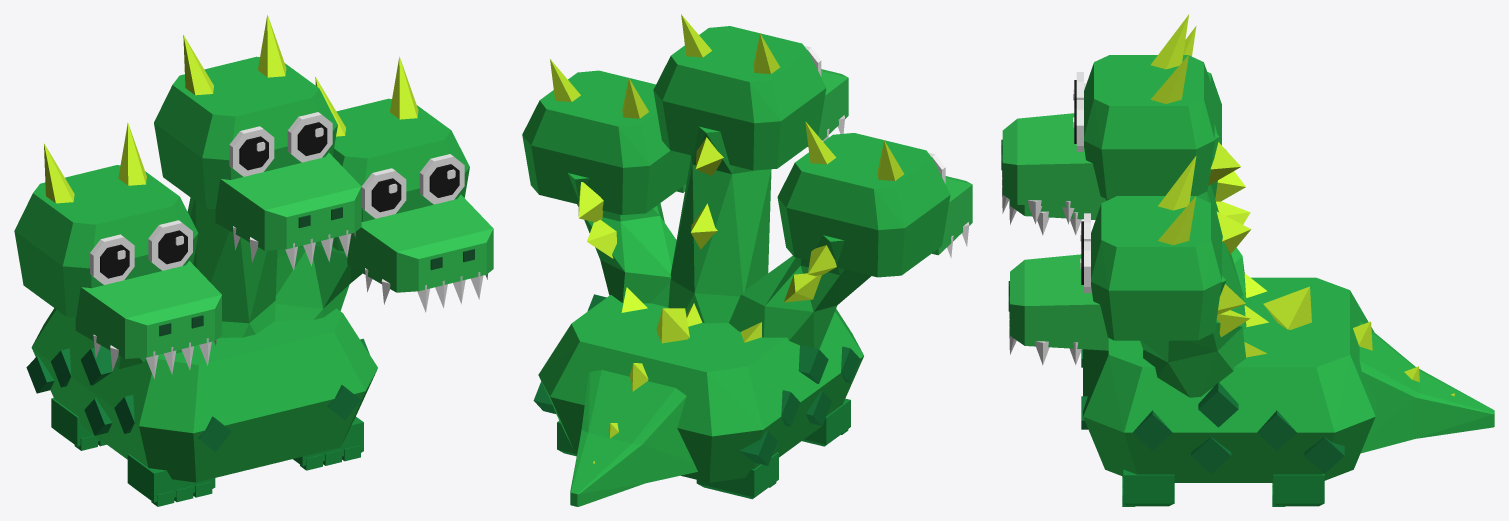
Rendered from Hydra.fbx.
The picture shows the model from 3 angles, left to right: view 1: azimuth 30°, elevation 25°; view 2: azimuth 150°, elevation 25°; view 3: azimuth 270°, elevation 25°; orthographic projection. The views are drawn at different scales.
Parts seen in each view (by area): view 1: Hydra_Heads, Hydra, Hydra_Snouts, Hydra_Necks, Hydra_Eyes, Hydra_Glow, Hydra_Feet, Hydra_Pupils, Hydra_Patches, Hydra_Teeth, Hydra_Nostrils; view 2: Hydra_Heads, Hydra, Hydra_Necks, Hydra_Tail, Hydra_Glow, Hydra_Patches, Hydra_Snouts, Hydra_Feet; view 3: Hydra, Hydra_Heads, Hydra_Snouts, Hydra_Glow, Hydra_Tail, Hydra_Necks, Hydra_Patches, Hydra_Feet, Hydra_Teeth, Hydra_Eyes.
Boxes of the visible parts, x1,y1,x2,y2 form: Hydra_Heads: (14, 56, 469, 317); Hydra: (31, 308, 377, 482); Hydra_Snouts: (75, 152, 493, 358); Hydra_Necks: (110, 197, 362, 369); Hydra_Eyes: (90, 112, 464, 284); Hydra_Glow: (44, 14, 418, 203); Hydra_Feet: (51, 398, 363, 506); Hydra_Pupils: (100, 122, 459, 278); Hydra_Patches: (26, 338, 369, 452); Hydra_Teeth: (93, 226, 487, 378); Hydra_Nostrils: (159, 207, 474, 336); Hydra_Heads: (522, 26, 950, 277); Hydra: (538, 295, 863, 482); Hydra_Necks: (568, 126, 871, 348); Hydra_Tail: (570, 370, 697, 506); Hydra_Glow: (550, 14, 903, 464); Hydra_Patches: (533, 294, 859, 465); Hydra_Snouts: (676, 69, 972, 255); Hydra_Feet: (557, 398, 850, 499); Hydra: (1083, 277, 1375, 482); Hydra_Heads: (1084, 55, 1221, 340); Hydra_Snouts: (1002, 113, 1108, 350); Hydra_Glow: (1150, 14, 1454, 396); Hydra_Tail: (1359, 322, 1494, 453); Hydra_Necks: (1140, 132, 1246, 397); Hydra_Patches: (1081, 349, 1344, 473); Hydra_Feet: (1122, 469, 1324, 506); Hydra_Teeth: (1002, 170, 1081, 365); Hydra_Eyes: (1073, 72, 1090, 292).
Bounding box in the file's own units: 5.04 × 5.12 × 5.39.
